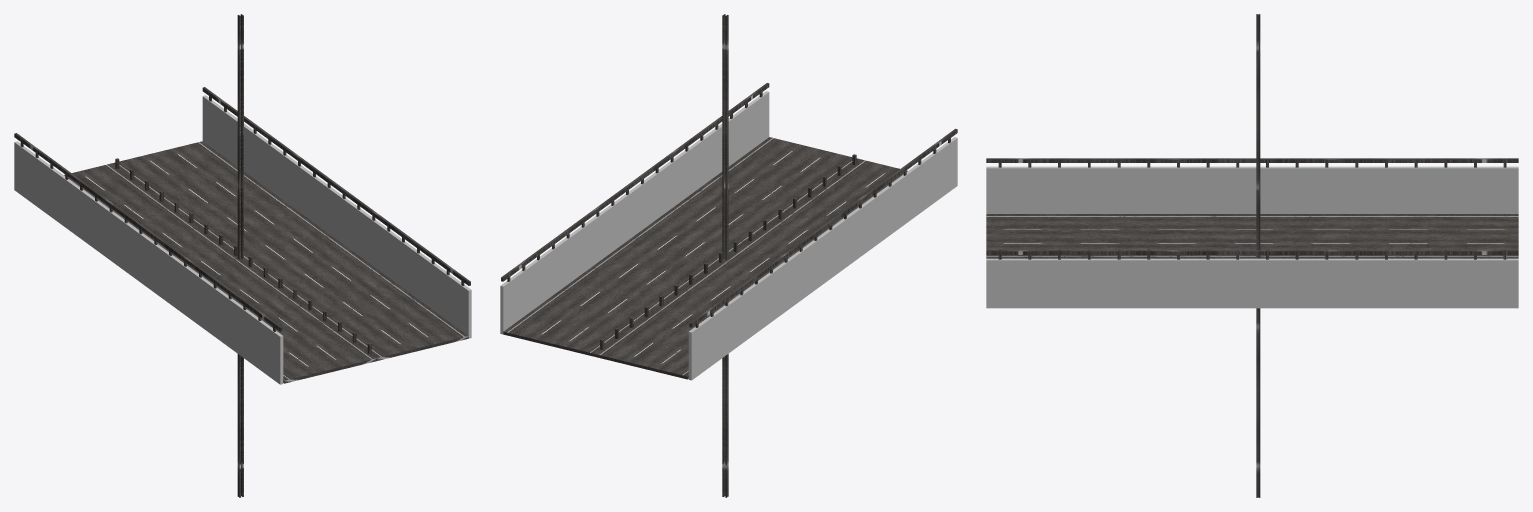
File: Road.fbx
The picture shows the model from 3 angles, left to right: view 1: azimuth 30°, elevation 25°; view 2: azimuth 150°, elevation 25°; view 3: azimuth 270°, elevation 25°; orthographic projection.
Visible parts, largest first — view 1: Road, Walls.001, Walls, Dividers, UpperWall.001, UpperWall, SquareDividers; view 2: Road, Walls.001, Walls, Dividers, UpperWall.001, UpperWall, SquareDividers; view 3: Walls, Walls.001, Road, UpperWall, UpperWall.001, Dividers.
Boxes of the visible parts, x1,y1,x2,y2 form: Road: [64, 141, 468, 383]; Walls.001: [14, 141, 283, 384]; Walls: [202, 95, 471, 338]; Dividers: [237, 14, 243, 497]; UpperWall.001: [14, 133, 282, 331]; UpperWall: [202, 87, 470, 285]; SquareDividers: [115, 158, 371, 353]; Road: [503, 137, 907, 379]; Walls.001: [688, 137, 957, 380]; Walls: [500, 91, 769, 334]; Dividers: [722, 14, 728, 497]; UpperWall.001: [689, 128, 957, 327]; UpperWall: [501, 83, 769, 281]; SquareDividers: [600, 154, 856, 349]; Walls: [986, 258, 1518, 308]; Walls.001: [986, 166, 1518, 213]; Road: [986, 214, 1518, 258]; UpperWall: [986, 250, 1518, 259]; UpperWall.001: [986, 158, 1518, 167]; Dividers: [1256, 14, 1260, 497].
Size of the model in its own units: 20.79 by 49.92 by 50.
